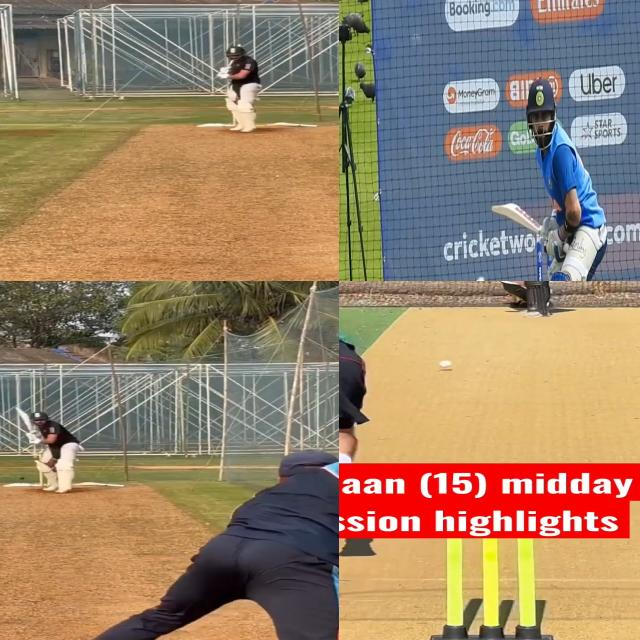Cricket ball: (438, 359, 453, 369), (475, 272, 487, 281), (19, 476, 25, 480)
